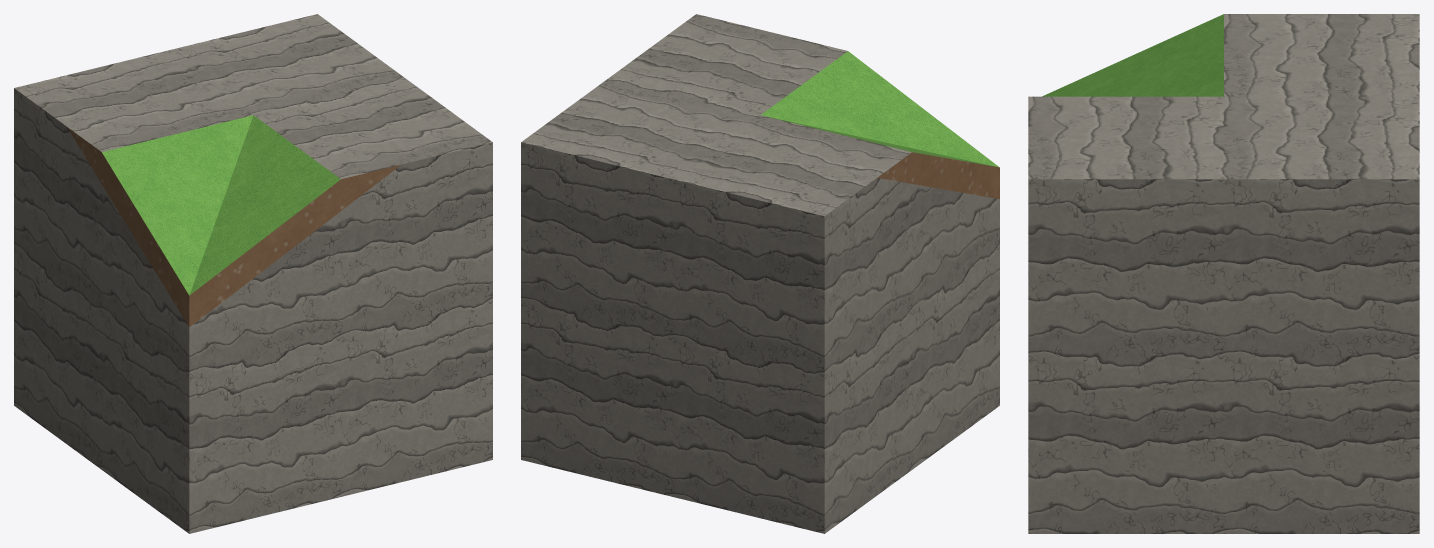
File: Slope_UtoL_InnerCorner_Bottom.fbx
3 views of the same model, side by side, from view 1: azimuth 30°, elevation 25°; view 2: azimuth 150°, elevation 25°; view 3: azimuth 270°, elevation 25° (orthographic). The views are drawn at different scales.
Parts seen in each view (by area): view 1: Slope_UtoL_InnerCorner_Bottom; view 2: Slope_UtoL_InnerCorner_Bottom; view 3: Slope_UtoL_InnerCorner_Bottom.
Boxes of the visible parts, x1,y1,x2,y2 form: Slope_UtoL_InnerCorner_Bottom: [14, 14, 492, 533]; Slope_UtoL_InnerCorner_Bottom: [521, 14, 999, 533]; Slope_UtoL_InnerCorner_Bottom: [1028, 14, 1419, 533].
Bounding box in the file's own units: 3 × 3 × 3.
3 materials, 3 textured.
